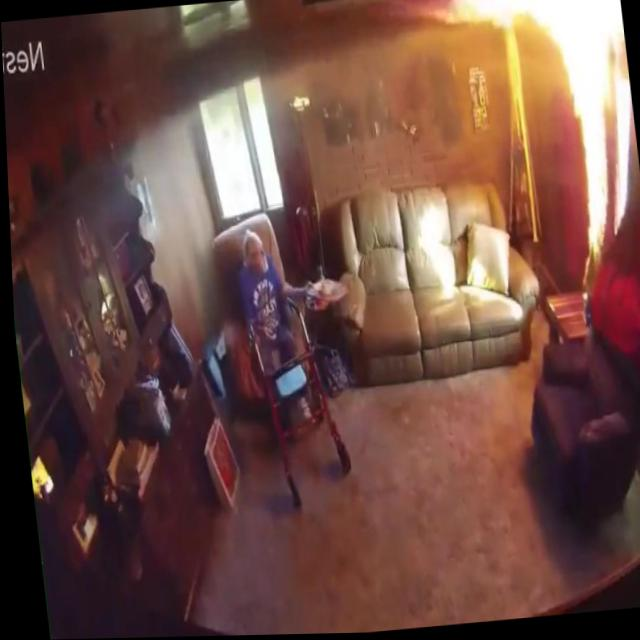fire: (556, 0, 633, 254), (446, 0, 623, 50)
